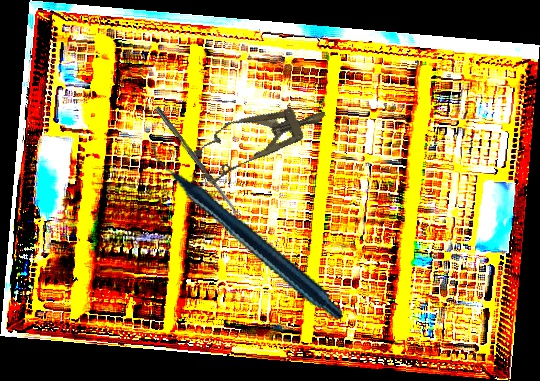Handpiece: (151, 110, 344, 351)
Speculum: (188, 88, 335, 188)
Surgical Spoon: (154, 106, 242, 220)
